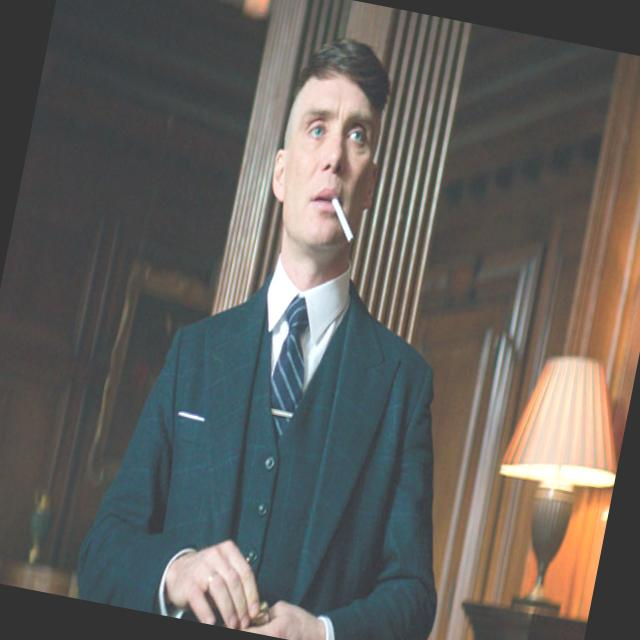cigarette: (314, 185, 370, 268)
